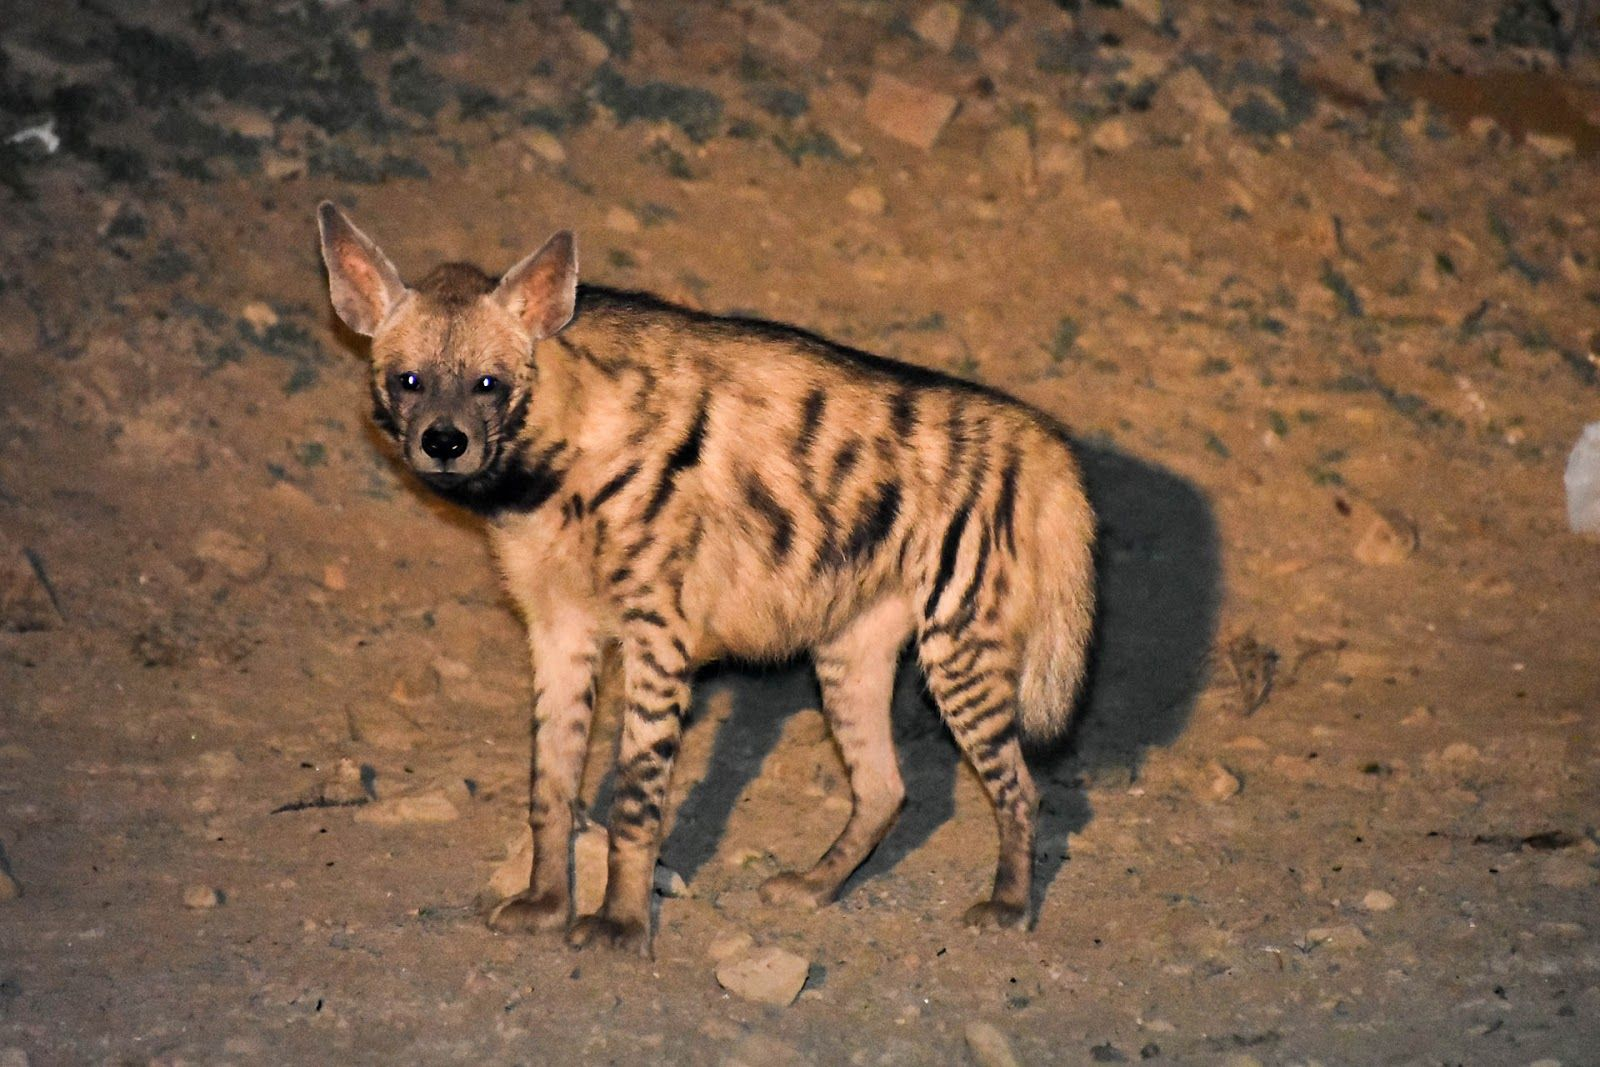hyena: (313, 189, 1108, 954)
